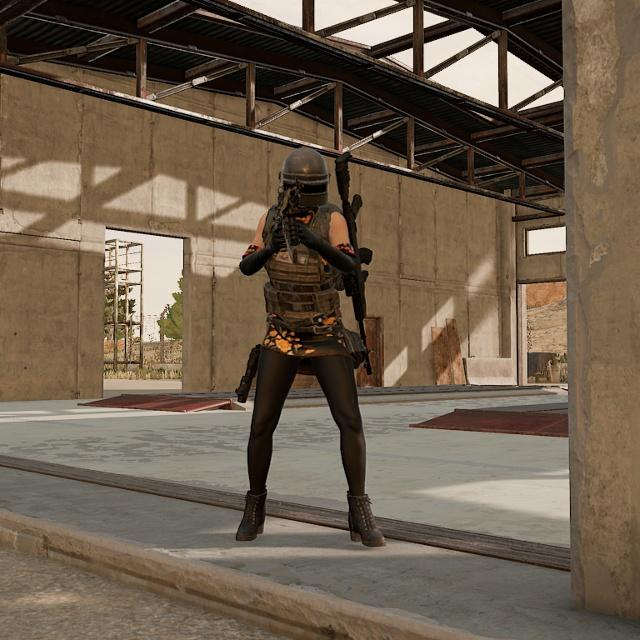head: (275, 143, 340, 218)
people: (222, 142, 394, 553)
